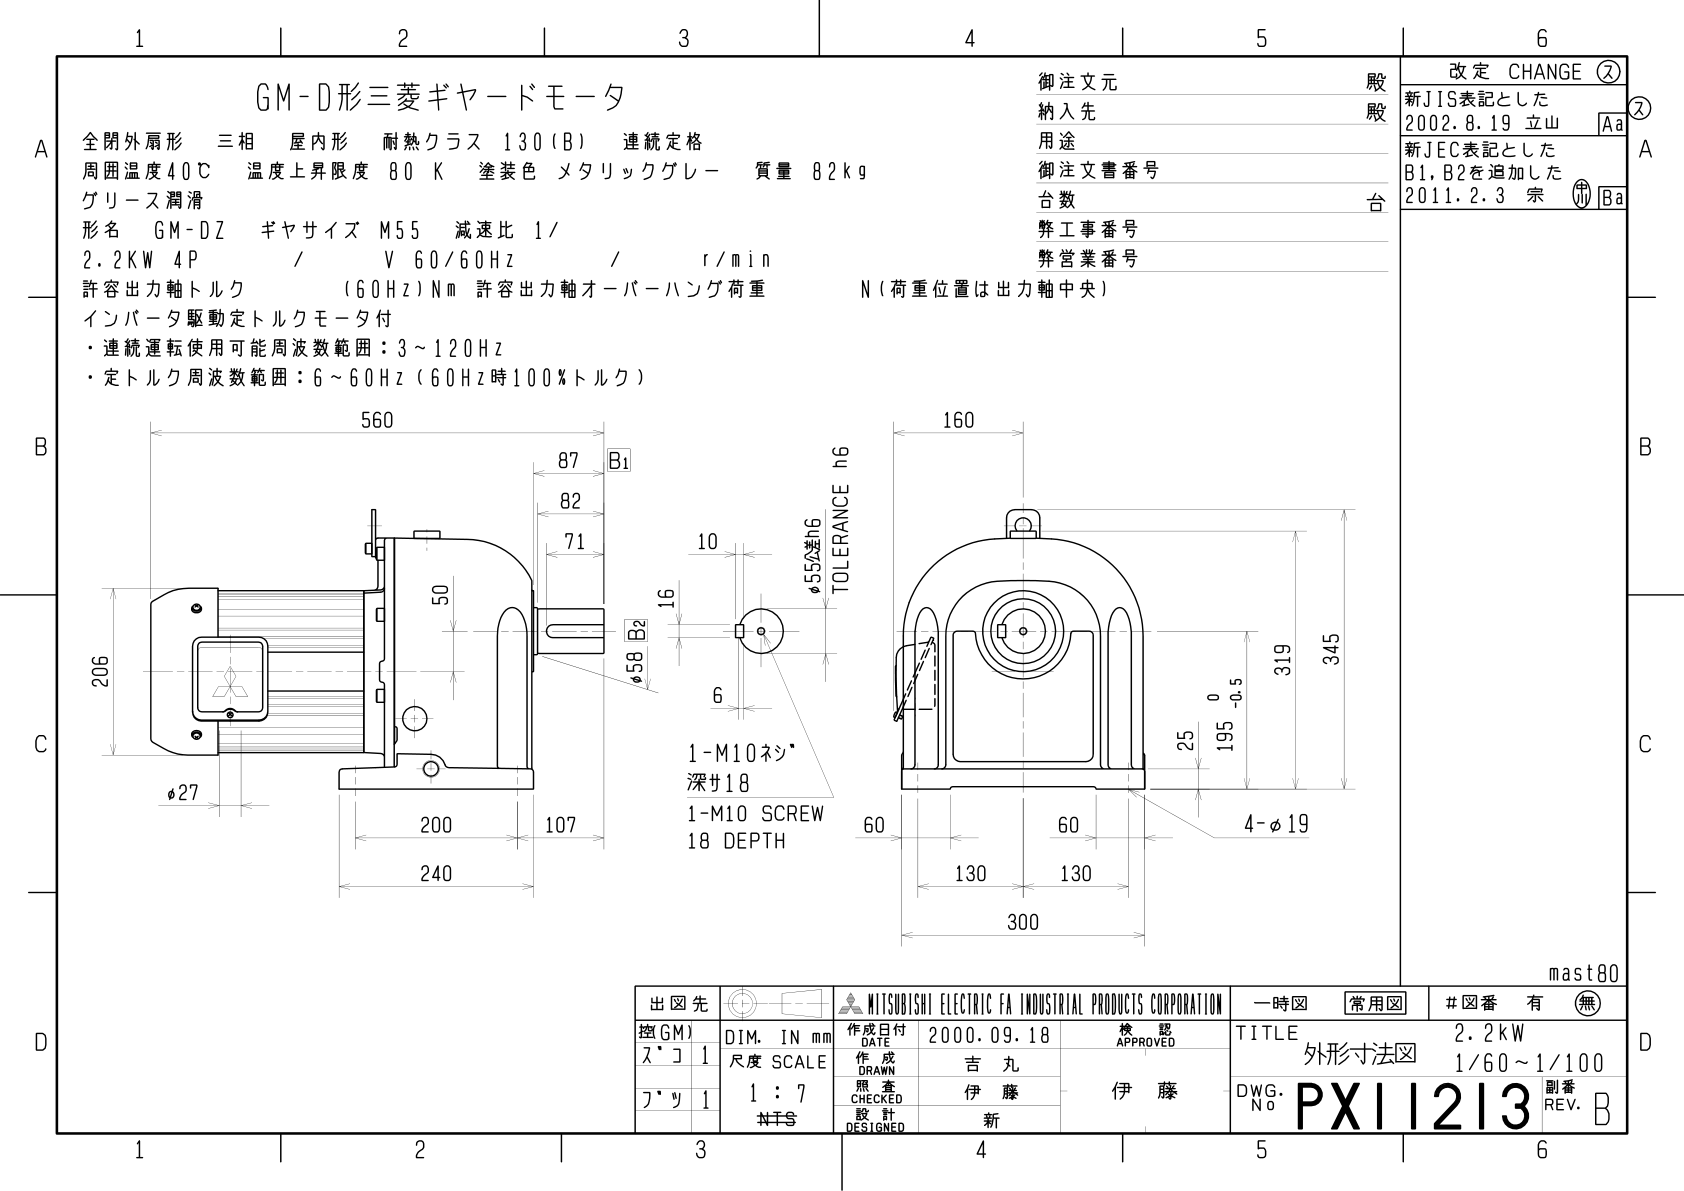GM_D_インバータ屋内_三相_脚: (73, 400, 1377, 962)
